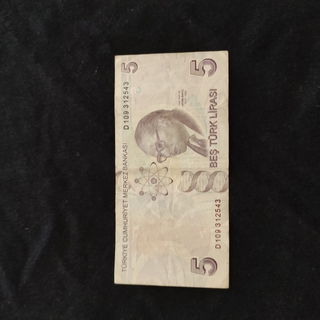5TLBack: (114, 50, 230, 289)
